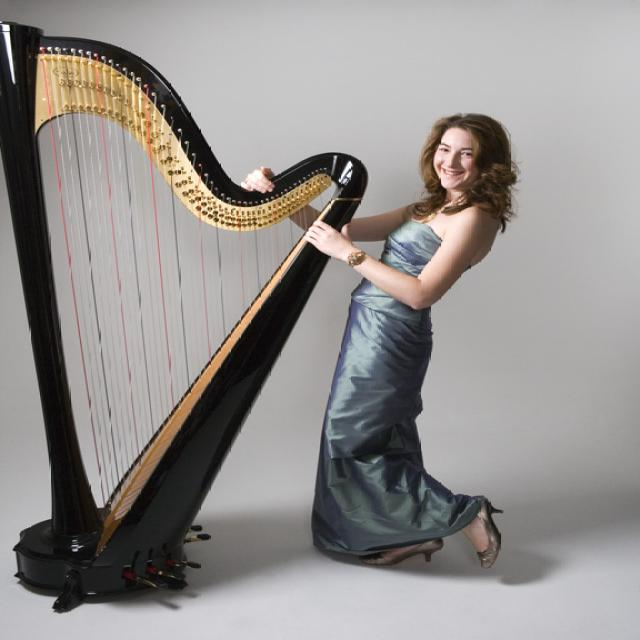harp: (2, 20, 368, 612)
